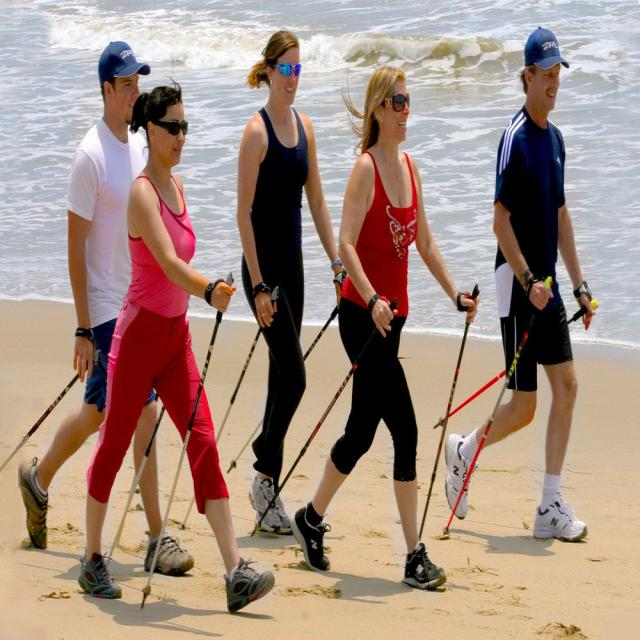body: (75, 72, 276, 620), (13, 34, 198, 587), (289, 63, 482, 591), (438, 22, 600, 551), (235, 27, 349, 539), (74, 598, 277, 639), (36, 548, 153, 593), (323, 569, 412, 602), (442, 535, 557, 558)
